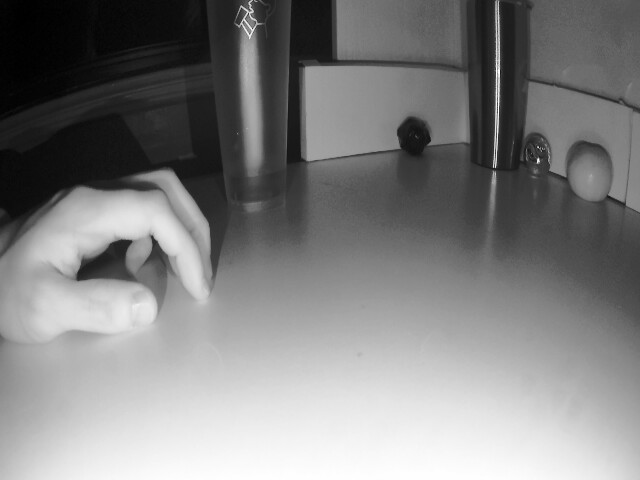black: (522, 130, 557, 176)
silver: (396, 118, 432, 160)
